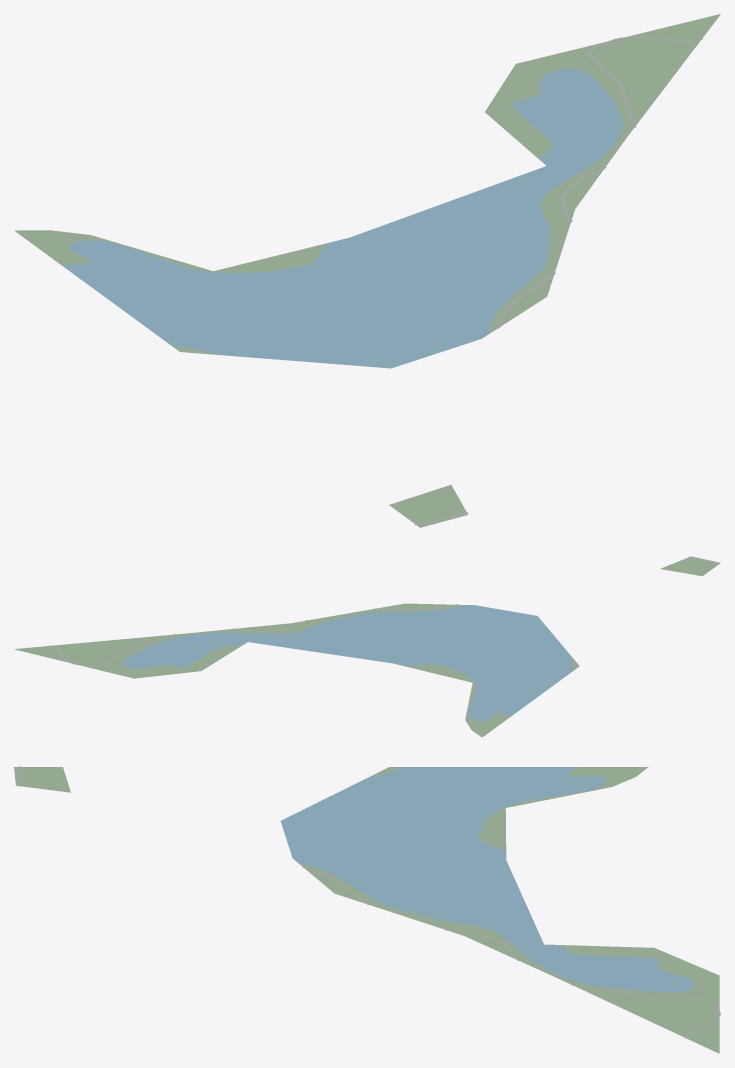
File: -14_35-known-fine.glb
3 views of the same model, one above another, from view 1: azimuth 30°, elevation 25°; view 2: azimuth 150°, elevation 25°; view 3: azimuth 270°, elevation 25° (orthographic). The views are drawn at different scales.
Size of the model in its own units: 754 by 0.1 by 784.
